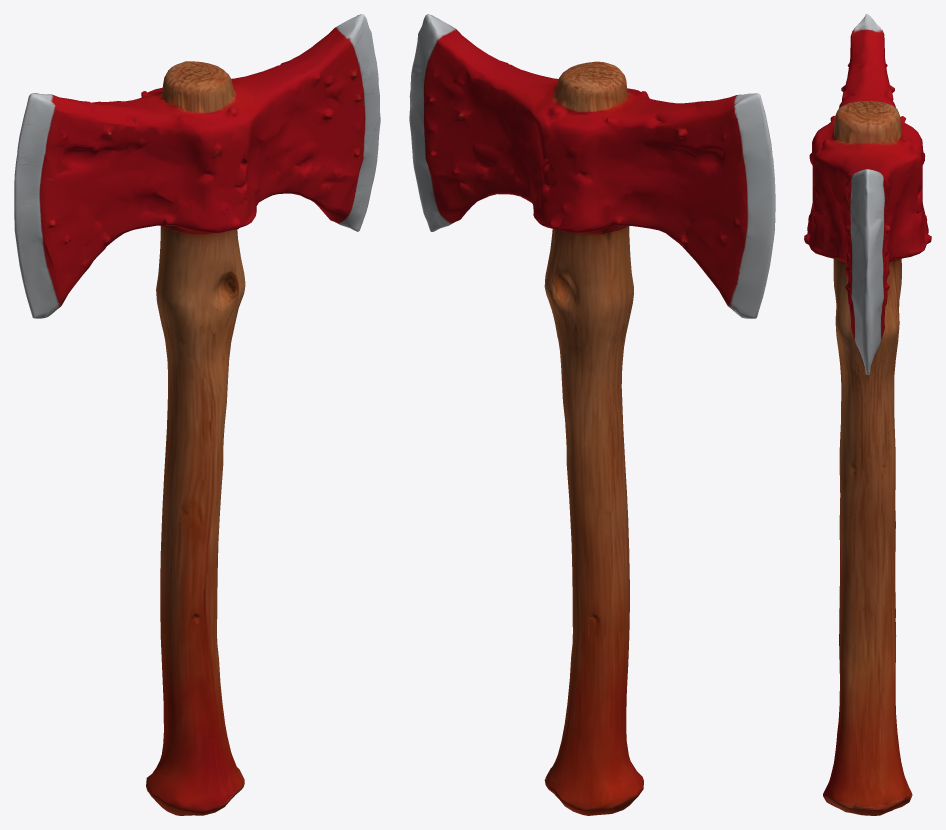
Rendered from axe.glb.
The picture shows the model from 3 angles, left to right: view 1: azimuth 30°, elevation 25°; view 2: azimuth 150°, elevation 25°; view 3: azimuth 270°, elevation 25°; orthographic projection. The views are drawn at different scales.
Visible parts, largest first — view 1: tripo_node_ec62009f-c98b-44ac-abef-d74650cc39ad; view 2: tripo_node_ec62009f-c98b-44ac-abef-d74650cc39ad; view 3: tripo_node_ec62009f-c98b-44ac-abef-d74650cc39ad.
Part boxes in pixels (<box>): tripo_node_ec62009f-c98b-44ac-abef-d74650cc39ad: <box>14,14,380,815</box>; tripo_node_ec62009f-c98b-44ac-abef-d74650cc39ad: <box>409,14,775,815</box>; tripo_node_ec62009f-c98b-44ac-abef-d74650cc39ad: <box>804,14,931,815</box>.
Bounding box in the file's own units: 0.5105 × 1 × 0.1611.
1 material, 1 textured.
